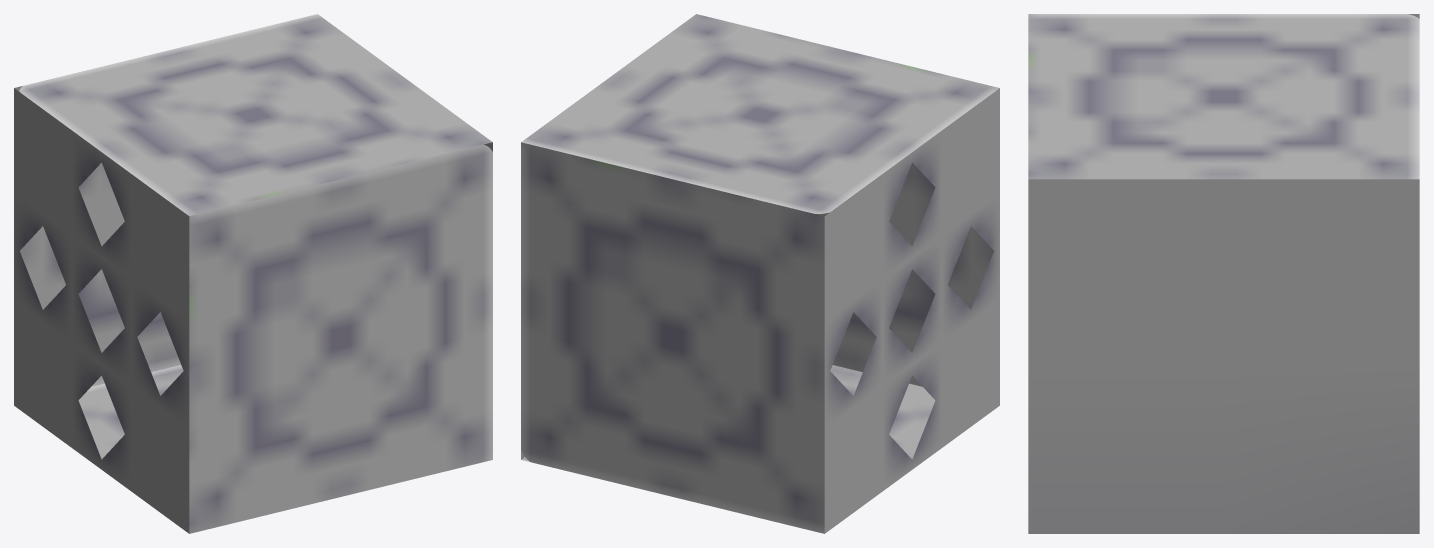
Rendered from DartsBlock.obj.
The picture shows the model from 3 angles, left to right: view 1: azimuth 30°, elevation 25°; view 2: azimuth 150°, elevation 25°; view 3: azimuth 270°, elevation 25°; orthographic projection. The views are drawn at different scales.
Parts seen in each view (by area): view 1: Untitled.001; view 2: Untitled.001; view 3: Untitled.001.
Part boxes in pixels (x1,y1,x2,y2): Untitled.001: (14, 14, 492, 533); Untitled.001: (521, 14, 999, 533); Untitled.001: (1028, 14, 1419, 533).
Bounding box in the file's own units: 2 × 2 × 2.
